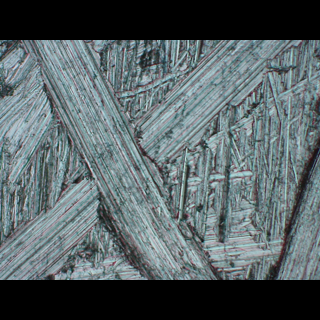d: (0, 40, 304, 280)
